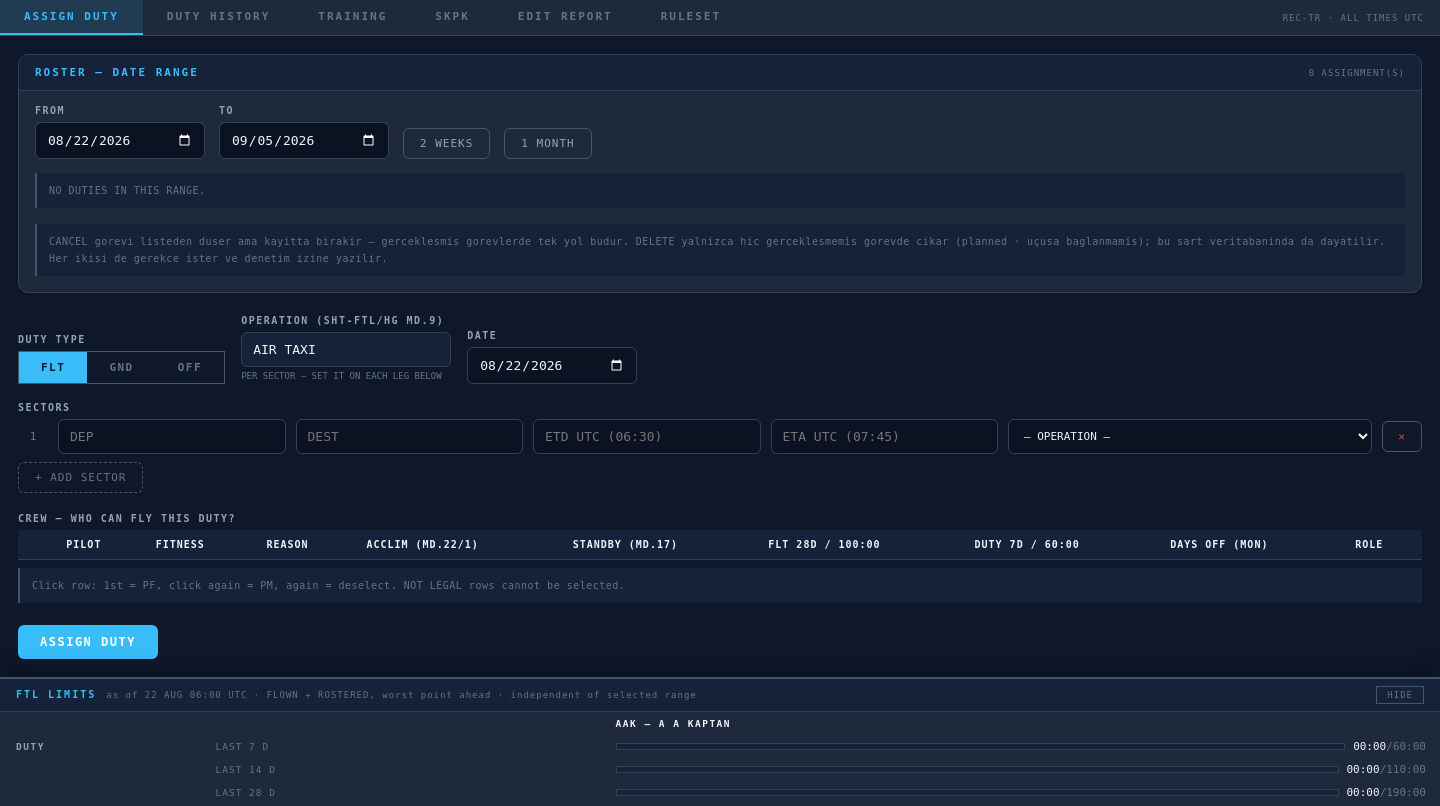
Test: DH ekrani › DH secilince sektor tablosu ve ucus numarasi alani cikar
Expected: the button "ASSIGN DUTY" is shown, [18,624,158,658]
Step 1. Click the text "GND" → {"x": 122, "y": 367}, box [109,360,134,374]
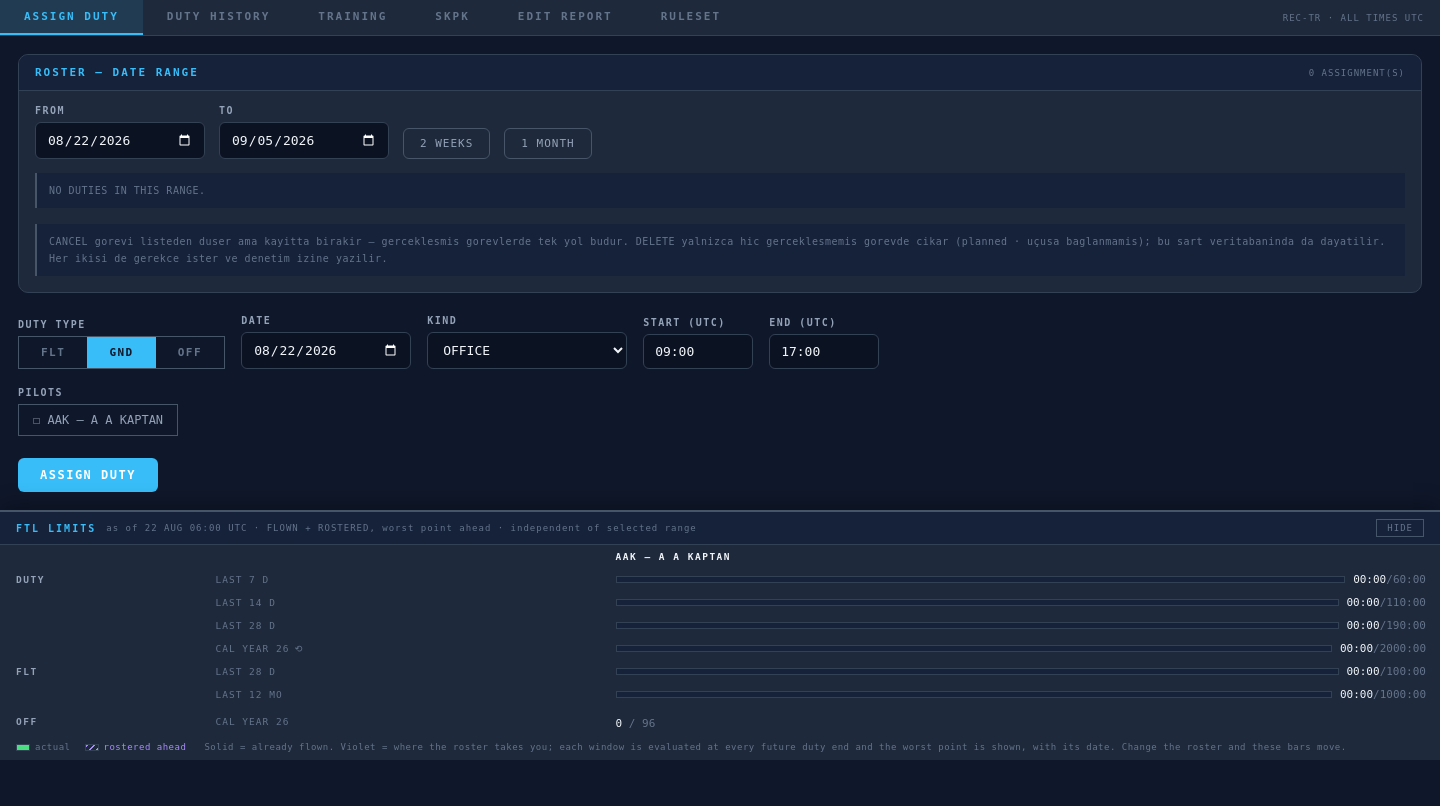
Step 2. Select "DH — DEADHEAD / POSITIONING (Md.14)" in the dropdown → {"x": 527, "y": 350}, box [427,332,627,369]
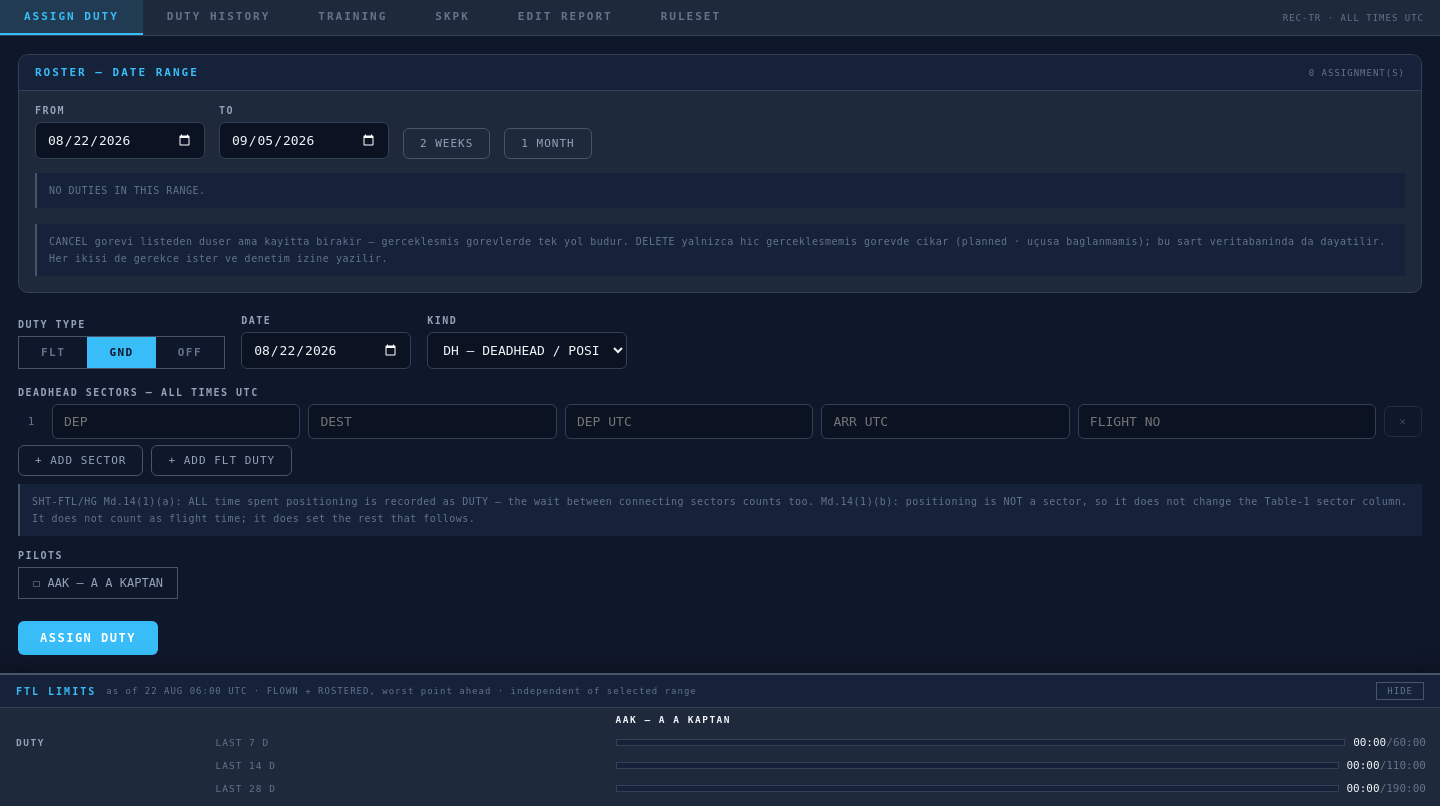
Expected: the field with placeholder "FLIGHT NO" is shown, [1078,404,1376,439]
Expected: the field with placeholder "DEP UTC" is shown, [565,404,813,439]
Expected: the field with placeholder "ARR UTC" is shown, [821,404,1070,439]
